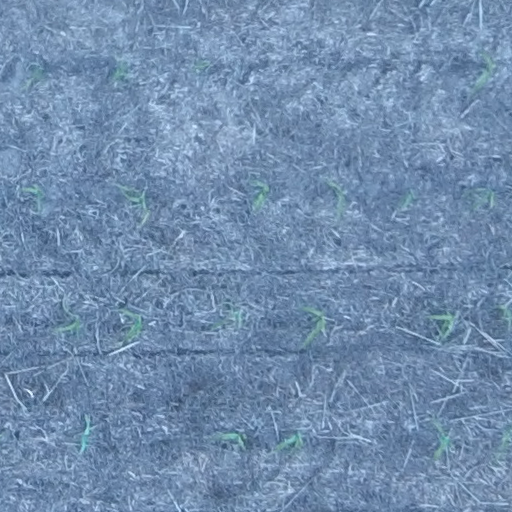planta: (117, 182, 154, 229), (110, 304, 146, 351), (297, 303, 331, 351), (467, 48, 499, 97), (427, 414, 457, 464), (422, 307, 460, 345), (207, 298, 247, 333), (49, 300, 83, 338), (322, 175, 349, 222), (267, 428, 307, 459), (461, 185, 499, 213), (207, 428, 249, 453), (247, 177, 272, 215), (18, 181, 47, 210), (75, 411, 93, 457), (19, 63, 47, 92), (109, 57, 131, 85), (395, 189, 416, 210), (189, 57, 214, 74)
